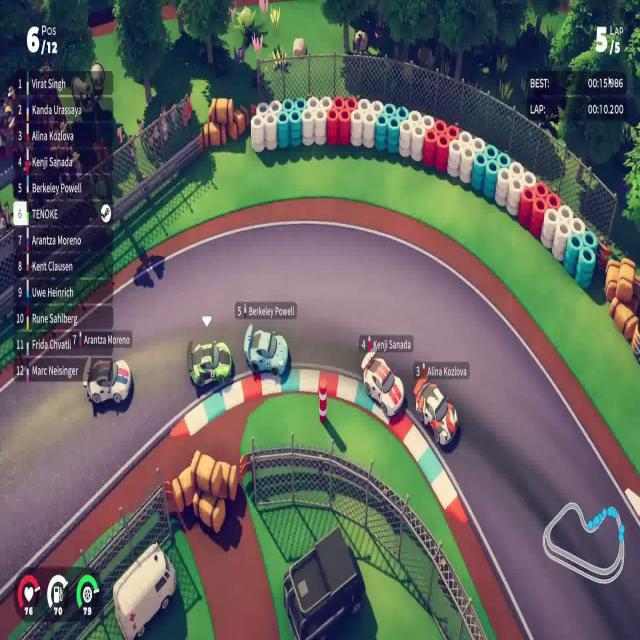car: (412, 367, 458, 447), (360, 349, 405, 418), (82, 356, 132, 407), (243, 322, 289, 377), (188, 338, 232, 390)
